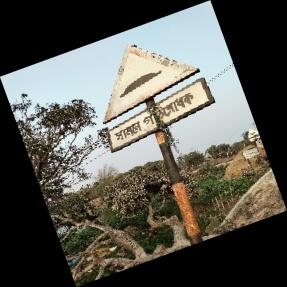Speed-breaker: (102, 43, 214, 153)
